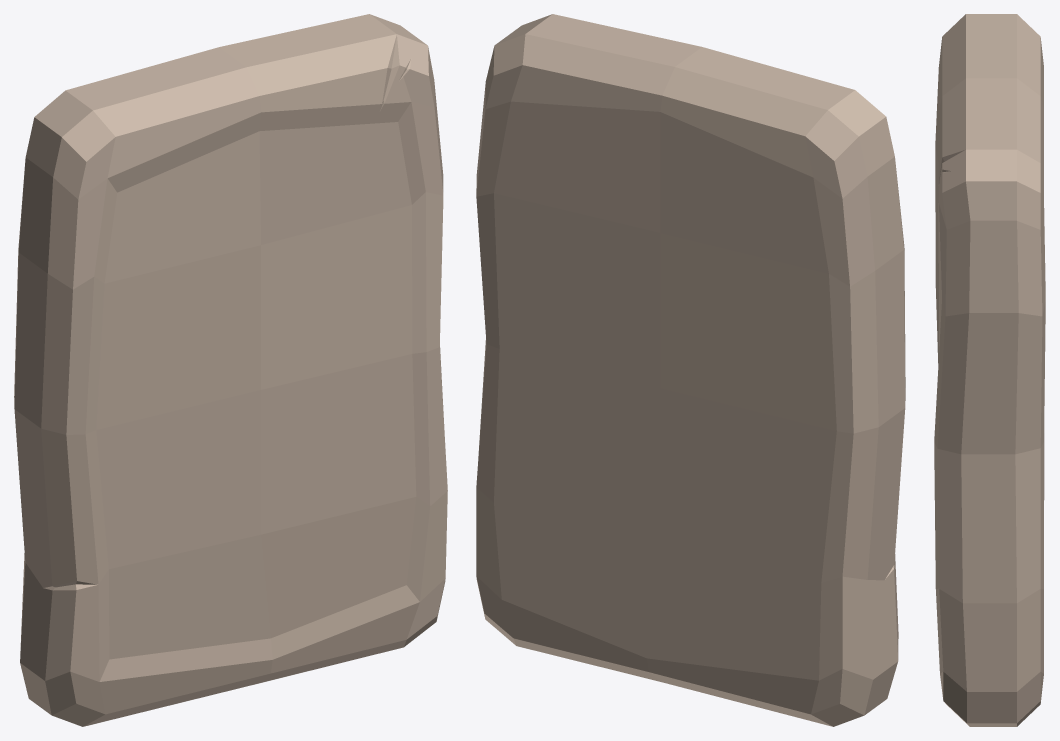
Rendered from stone_tablet.fbx.
3 renders of one model, left to right at view 1: azimuth 30°, elevation 25°; view 2: azimuth 150°, elevation 25°; view 3: azimuth 270°, elevation 25°, orthographic. The views are drawn at different scales.
Parts seen in each view (by area): view 1: tablet_GEO; view 2: tablet_GEO; view 3: tablet_GEO.
Boxes of the visible parts, x1=… form: tablet_GEO: x1=14, y1=14, x2=447, y2=726; tablet_GEO: x1=476, y1=14, x2=905, y2=726; tablet_GEO: x1=934, y1=14, x2=1045, y2=726.
Bounding box in the file's own units: 136 × 201 × 35.01.
